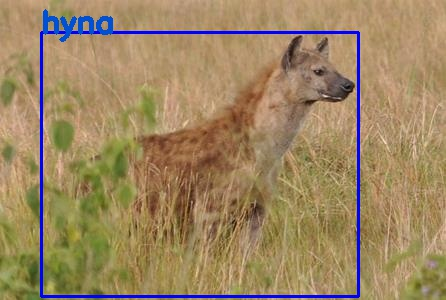hyna: (40, 32, 357, 296)
